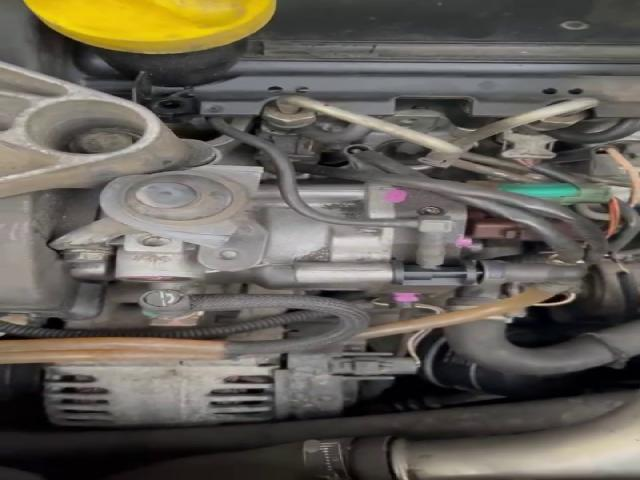alternator: (39, 338, 420, 425)
high_pressure_pump: (111, 180, 475, 307)
